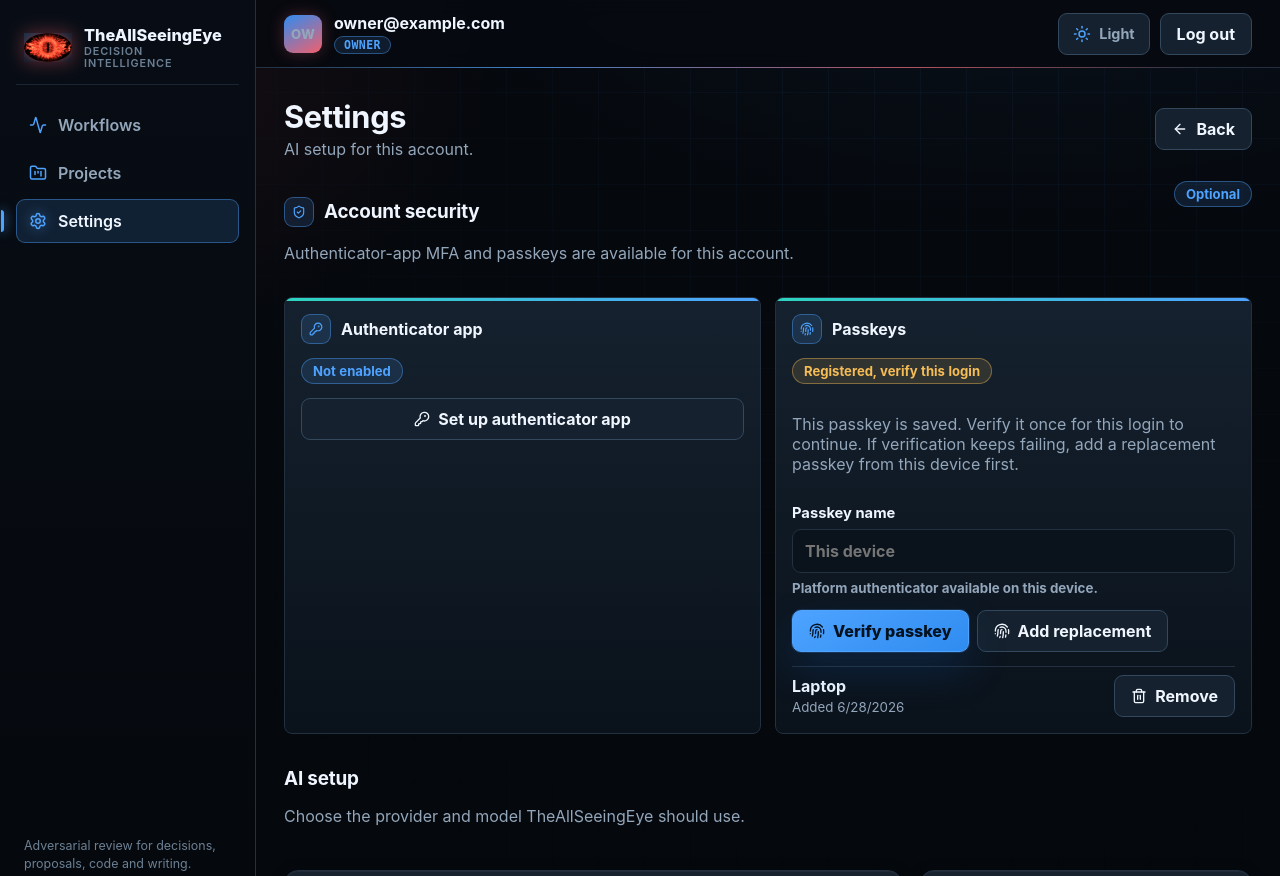
MFA passkeys › verifies a registered passkey for the current session
Check: the text "Registered, verify this login" is shown, box [792, 358, 992, 384]
Click the button "Verify passkey": (880, 631) [792, 610, 969, 652]
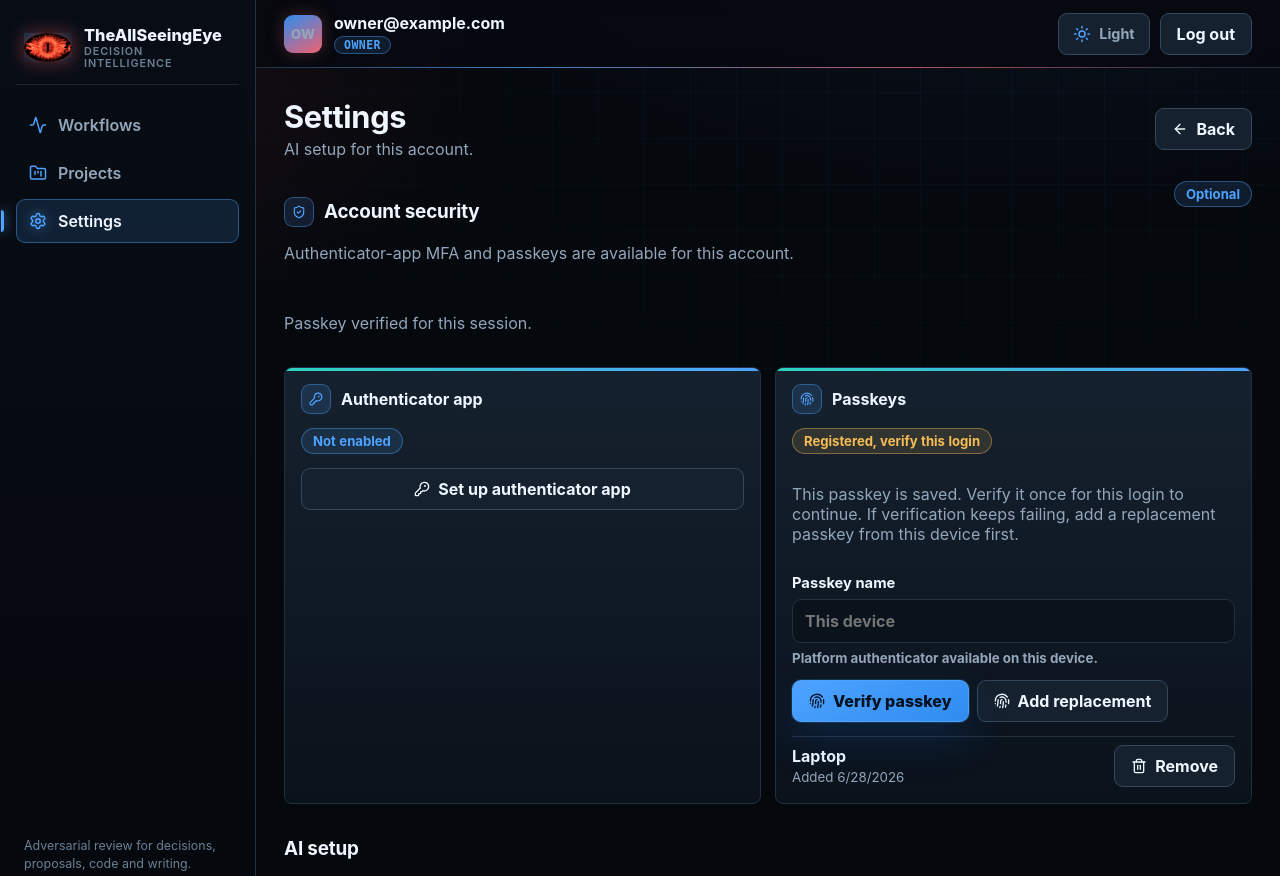
Check: the text "Passkey verified for this session." is shown, box [284, 313, 532, 333]
